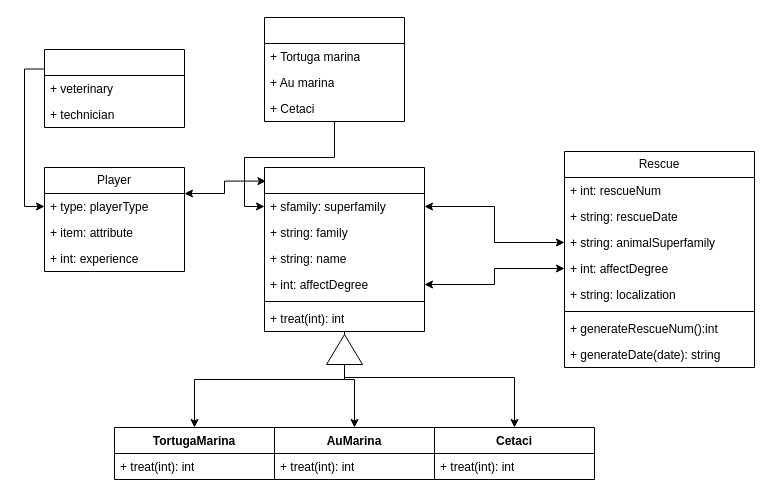
This 772x500 diagram has some shape labels left out. The shapes that lost their labels are listed below. From the top down, each one's box as (x1, y1, x2, y2) in pixels, then its label:
(44, 48, 184, 128): <<enum>> type
(264, 16, 404, 122): <<enum>> sfamily
(264, 166, 424, 332): <<Abstract>> Animal
